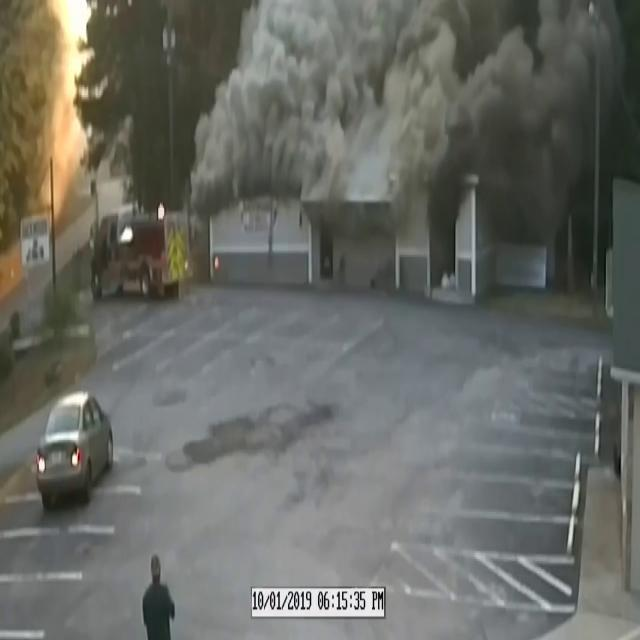Smoke: (194, 0, 640, 247)
